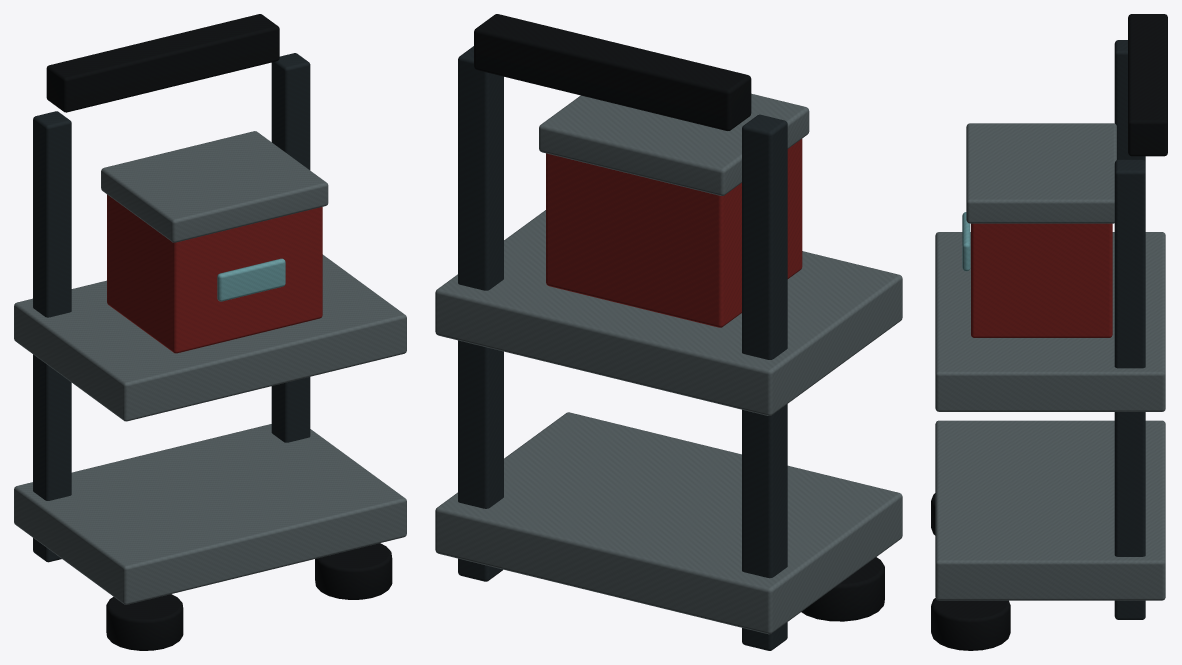
File: ToolCart.fbx
The picture shows the model from 3 angles, left to right: view 1: azimuth 30°, elevation 25°; view 2: azimuth 150°, elevation 25°; view 3: azimuth 270°, elevation 25°; orthographic projection. The views are drawn at different scales.
Visible parts, largest first — view 1: ToolCart_Mesh; view 2: ToolCart_Mesh; view 3: ToolCart_Mesh.
Boxes of the visible parts, x1=… form: ToolCart_Mesh: x1=14, y1=14, x2=406, y2=650; ToolCart_Mesh: x1=435, y1=14, x2=902, y2=650; ToolCart_Mesh: x1=931, y1=14, x2=1167, y2=650.
Size of the model in its own units: 76 by 128 by 53.5.
Materials: 5 (5 with a texture image).
